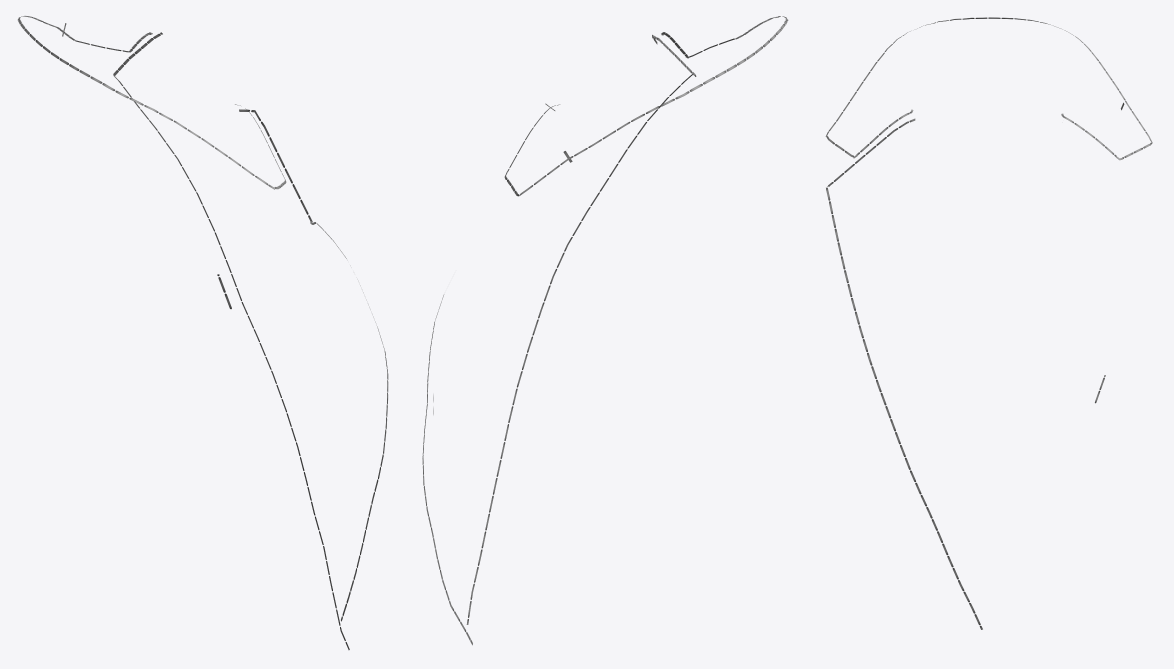
Rendered from notch_lapel_reguler_AMF.glb.
3 renders of one model, left to right at view 1: azimuth 30°, elevation 25°; view 2: azimuth 150°, elevation 25°; view 3: azimuth 270°, elevation 25°, orthographic. The views are drawn at different scales.
Visible parts, largest first — view 1: SM_Lapel_B1_Notch_R.003; view 2: SM_Lapel_B1_Notch_R.003; view 3: SM_Lapel_B1_Notch_R.003.
Part boxes in pixels (x1,y1,x2,y2): SM_Lapel_B1_Notch_R.003: (18, 16, 388, 649); SM_Lapel_B1_Notch_R.003: (422, 16, 788, 645); SM_Lapel_B1_Notch_R.003: (825, 17, 1152, 629).
Bounding box in the file's own units: 1.13 × 2.48 × 1.44.
Materials: 1 (1 with a texture image).
